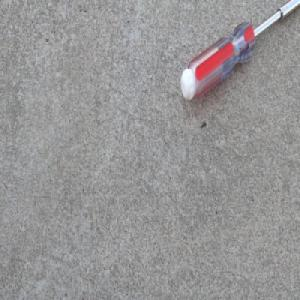Screwdriver: (178, 0, 300, 101)
